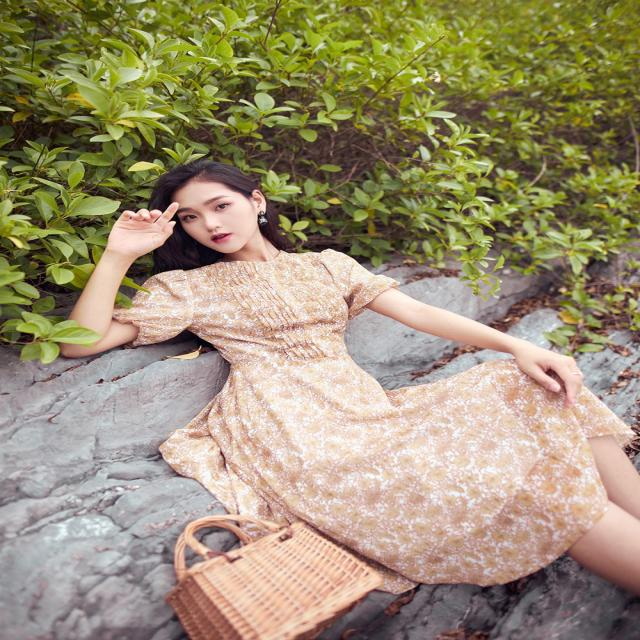clothes: (122, 241, 627, 579)
